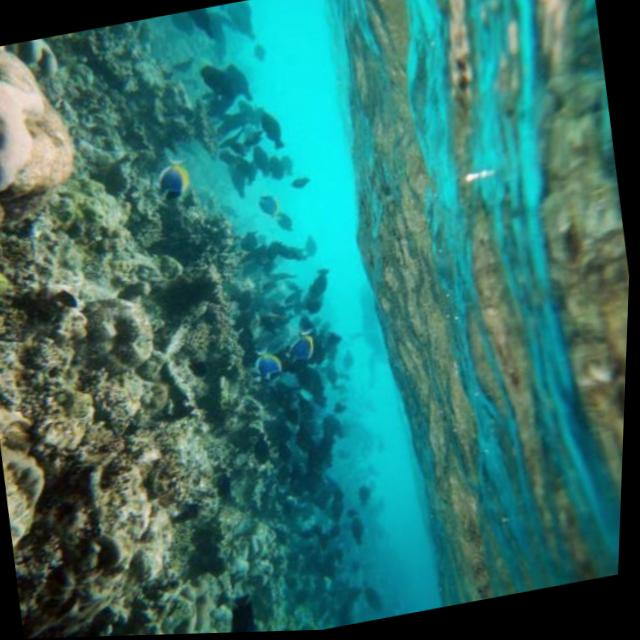Dead Coral: (0, 5, 330, 640)
